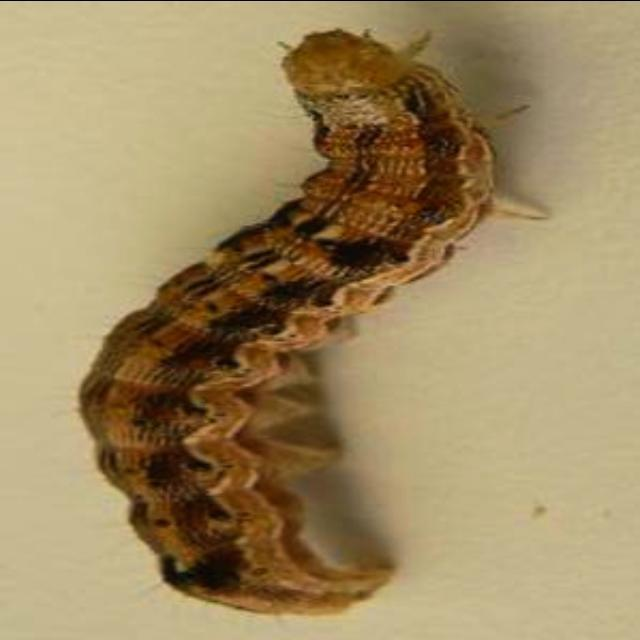Cotton bollworm: (46, 2, 574, 640)
